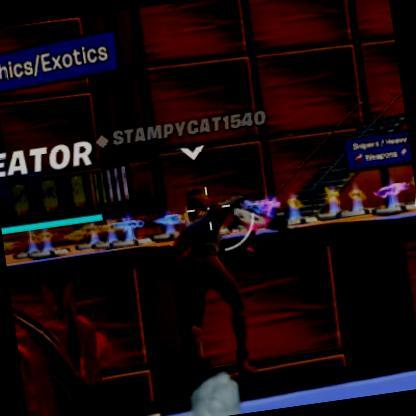person: (174, 193, 254, 368)
